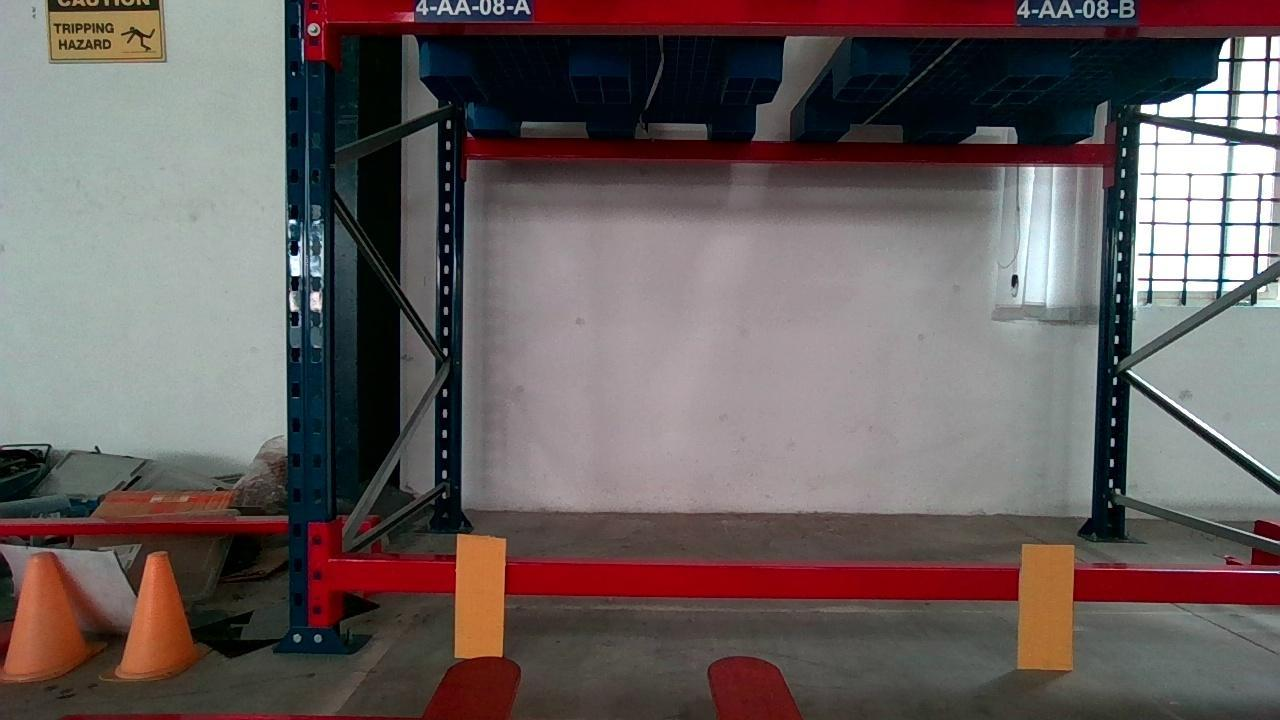h_rack: (329, 563, 1278, 604), (328, 0, 1280, 26)
orange_strip: (453, 537, 508, 657), (1021, 542, 1072, 669)
